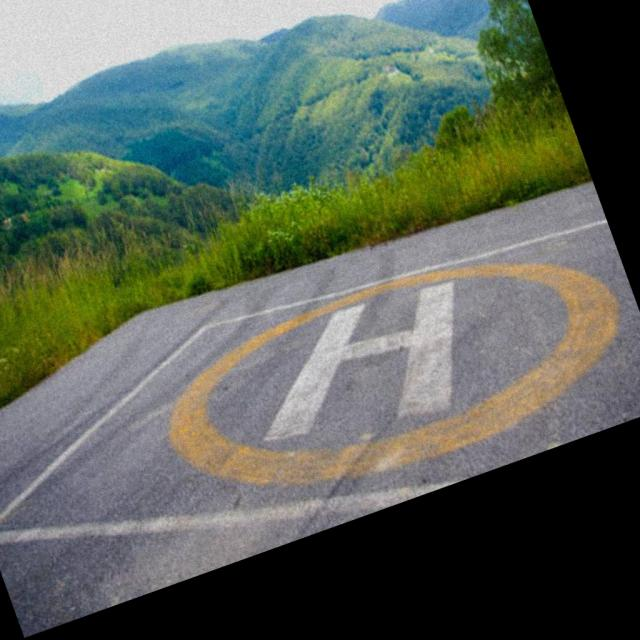helipad: (163, 258, 623, 488)
